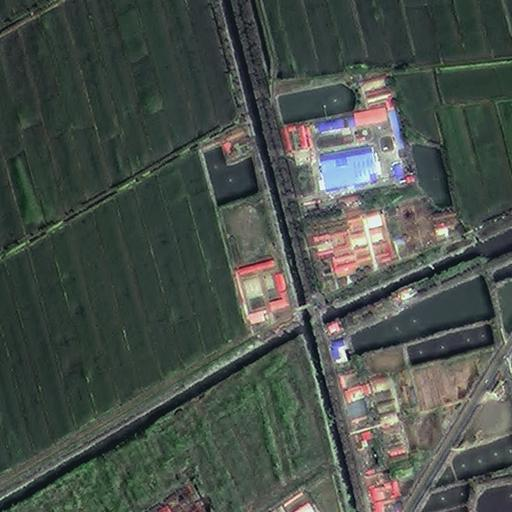school: (215, 195, 294, 329)
